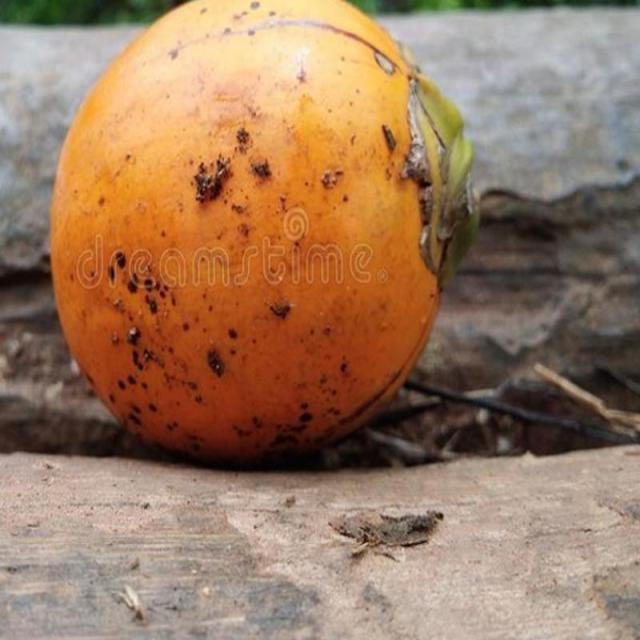good: (47, 0, 477, 471)
